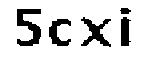5: (10, 4, 46, 50)
c: (46, 15, 78, 51)
i: (118, 4, 137, 53)
x: (79, 13, 115, 51)
